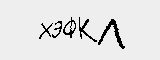К: (75, 19, 95, 42)
Л: (100, 19, 128, 50)
Ф: (68, 19, 76, 39)
Х: (38, 23, 54, 39)
Э: (51, 19, 65, 39)
